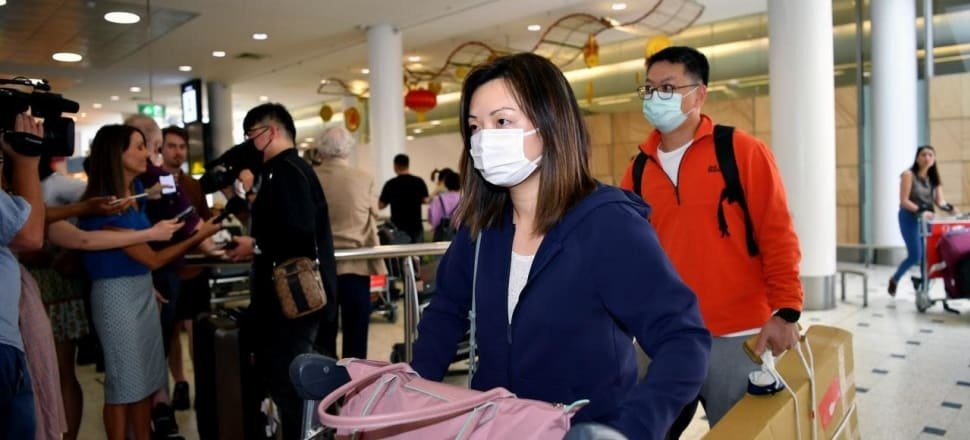mask: (468, 131, 545, 188), (641, 93, 690, 134), (241, 138, 269, 164)
no_mask: (126, 149, 153, 172)
